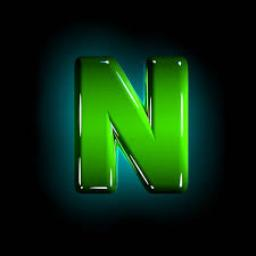n: (68, 42, 196, 210)
